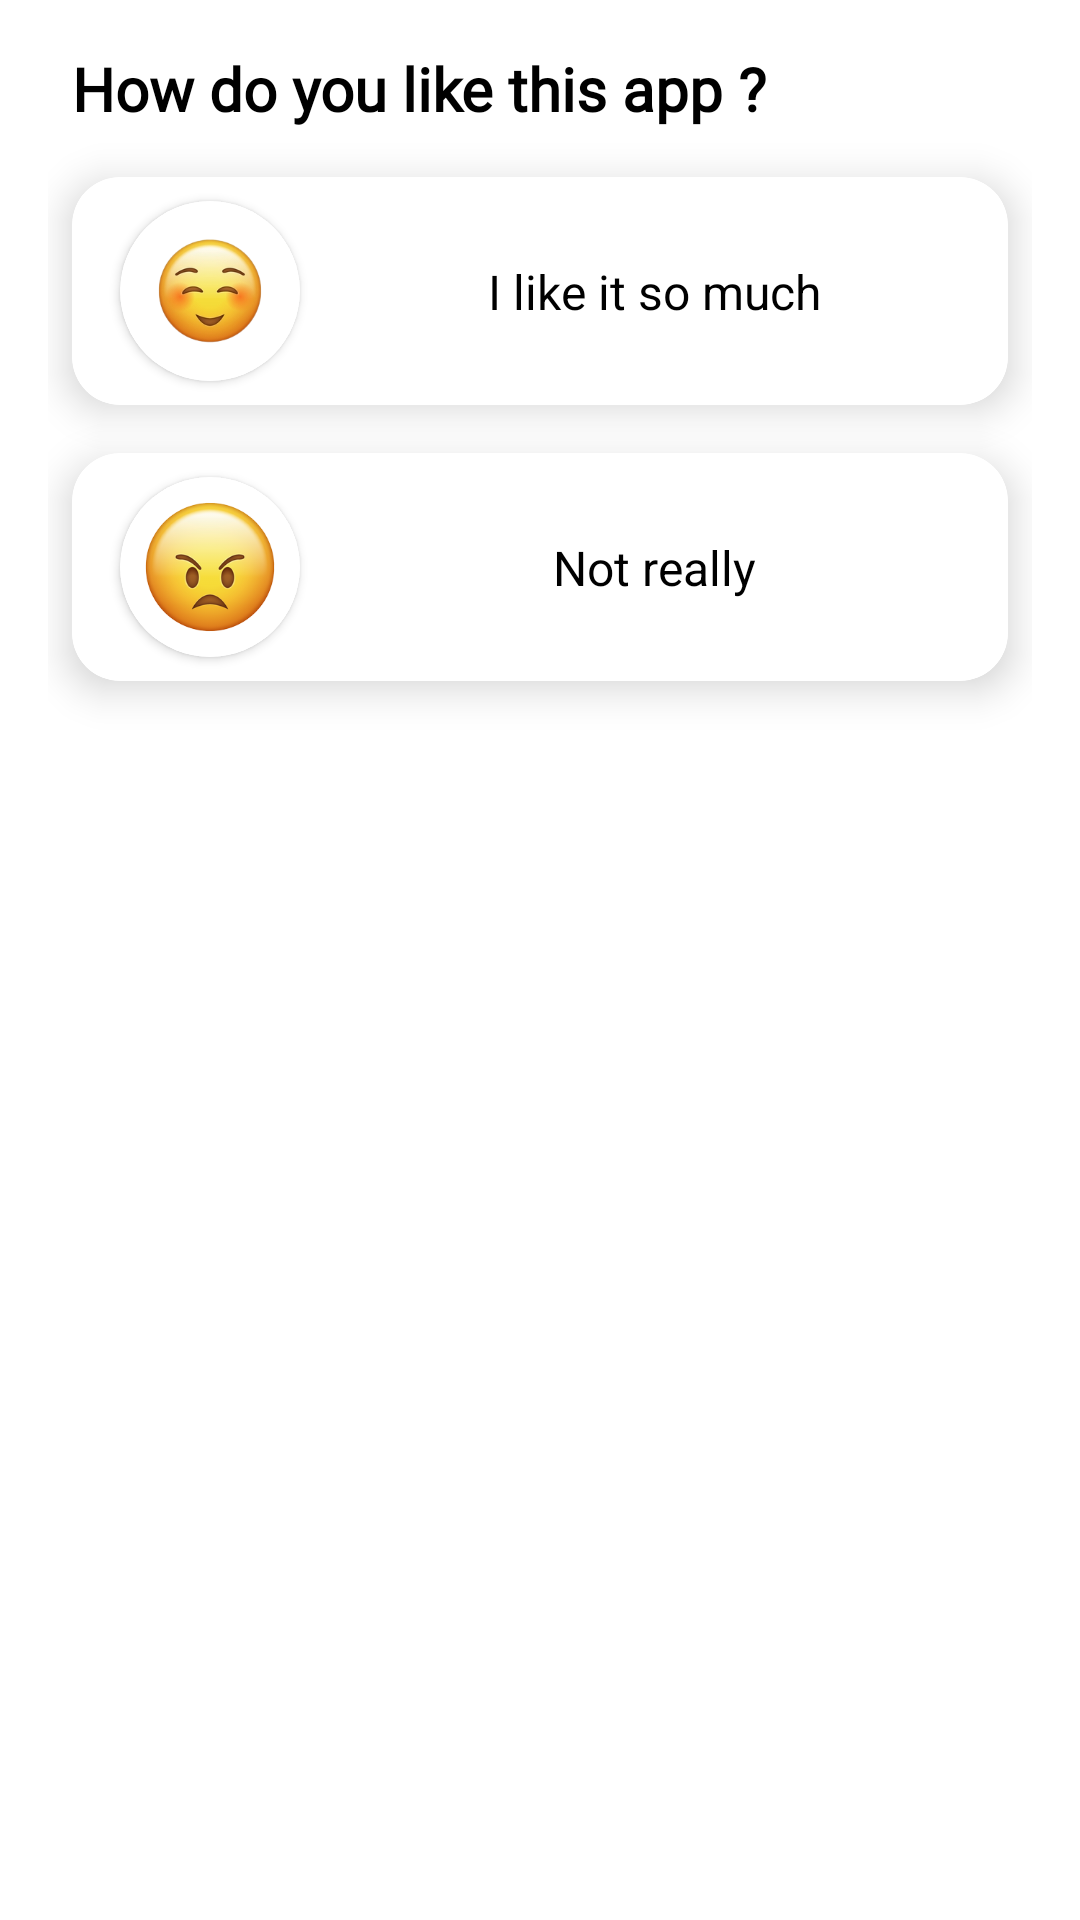

Icon bounding boxes for this 1080x1920 phone screenshot, format bbox(x1, y1, x2, y2):
angryicon: bbox(120, 503, 289, 657)
happyicon: bbox(120, 220, 261, 381)
